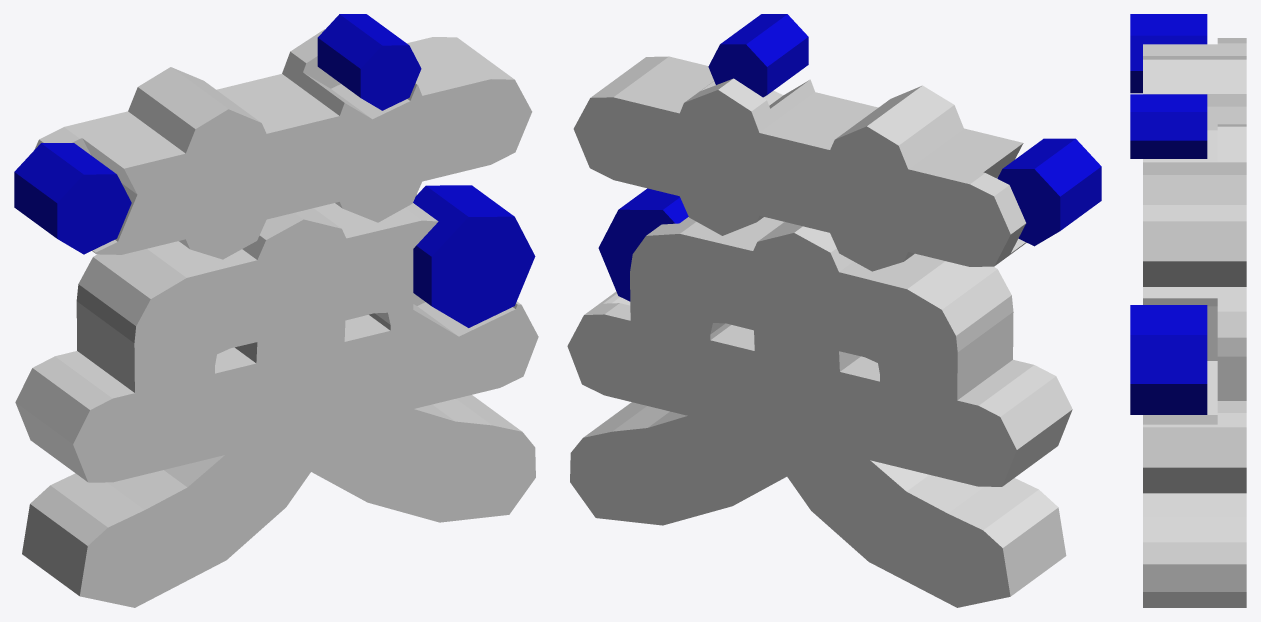
File: Ch_Lite_China_英_01.fbx
The picture shows the model from 3 angles, left to right: view 1: azimuth 30°, elevation 25°; view 2: azimuth 150°, elevation 25°; view 3: azimuth 270°, elevation 25°; orthographic projection. The views are drawn at different scales.
Parts seen in each view (by area): view 1: sphere1; view 2: sphere1; view 3: sphere1.
Part boxes in pixels (x1=…): sphere1: x1=14, y1=14, x2=538, y2=607; sphere1: x1=567, y1=14, x2=1101, y2=607; sphere1: x1=1130, y1=14, x2=1246, y2=607.
Bounding box in the file's own units: 0.9759 × 0.9716 × 0.2242.
